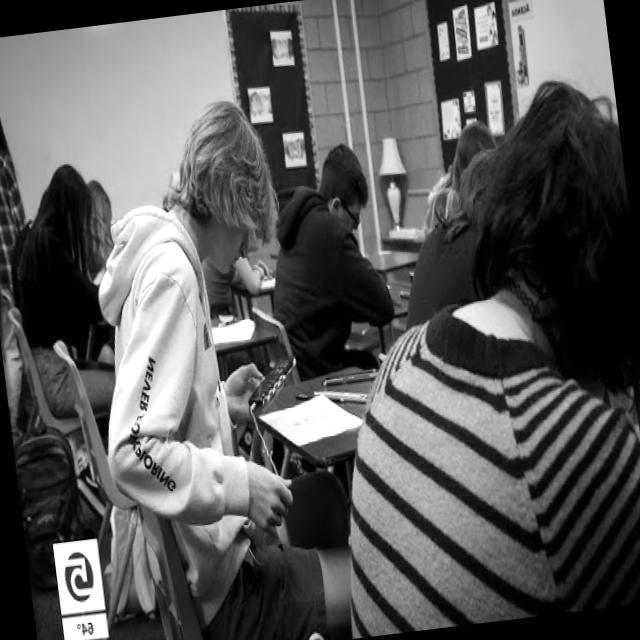phone: (243, 353, 300, 408)
